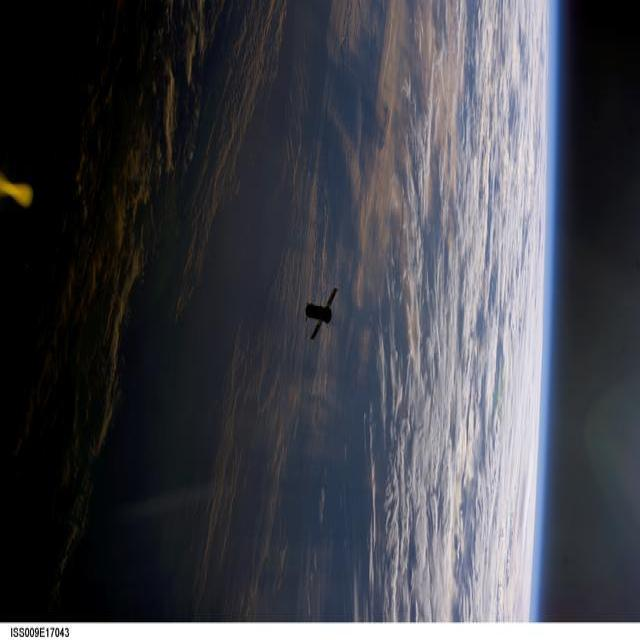medium_debris: (306, 287, 337, 339)
